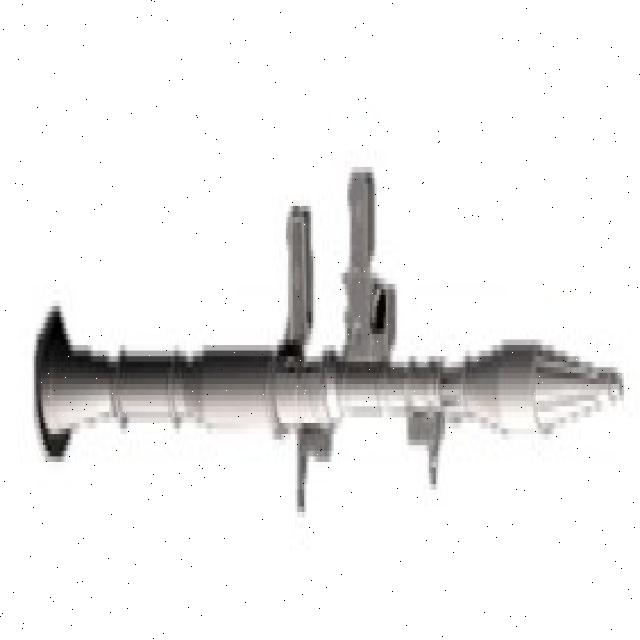bazooka: (27, 159, 632, 530)
